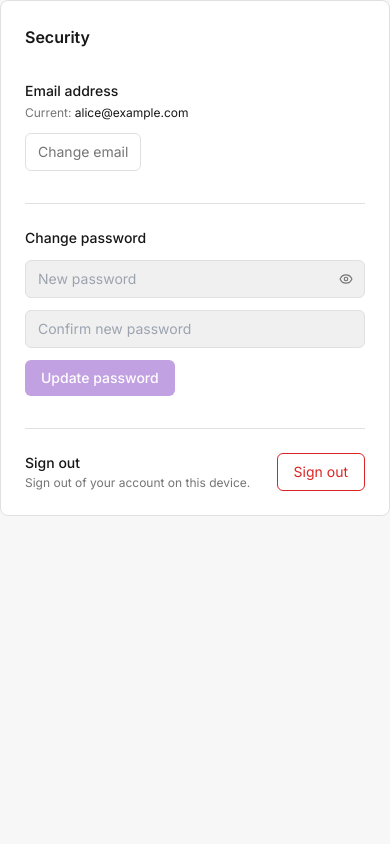
Scenario: SecuritySection — Email change › submits new email and shows confirmation message
Click the button "Change email".
click(83, 152)  # box x1=25 y1=133 x2=141 y2=171
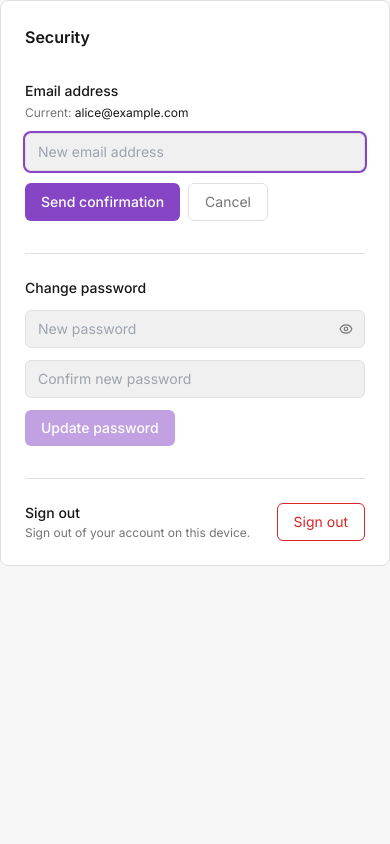
Type "newalice@example.com" into the field with placeholder "New email address".
click(195, 152); type("newalice@example.com")  # box x1=25 y1=133 x2=365 y2=171
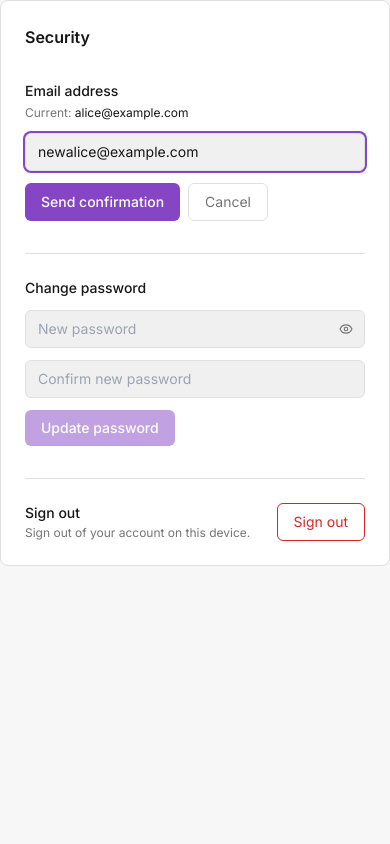
Click the button "Send confirmation".
click(103, 202)  # box x1=25 y1=183 x2=180 y2=221
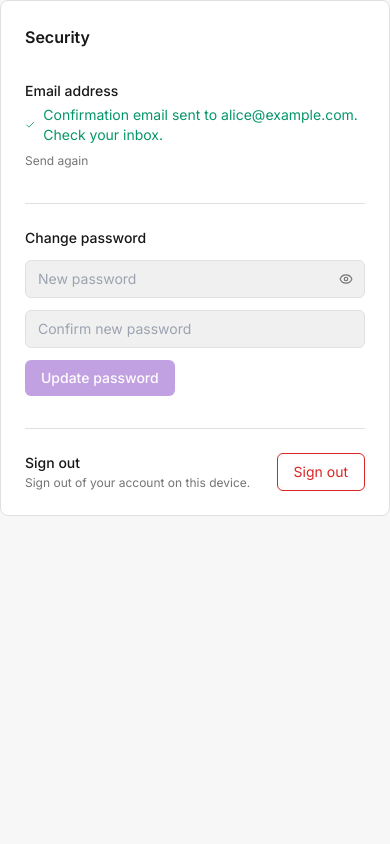
Expected: the text "Confirmation email sent" is shown, x1=43 y1=106 x2=221 y2=123
